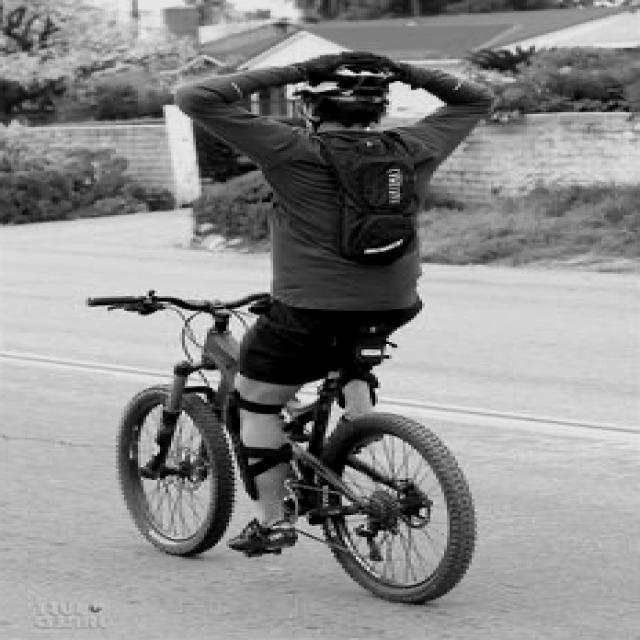Helmet: (276, 46, 433, 136)
